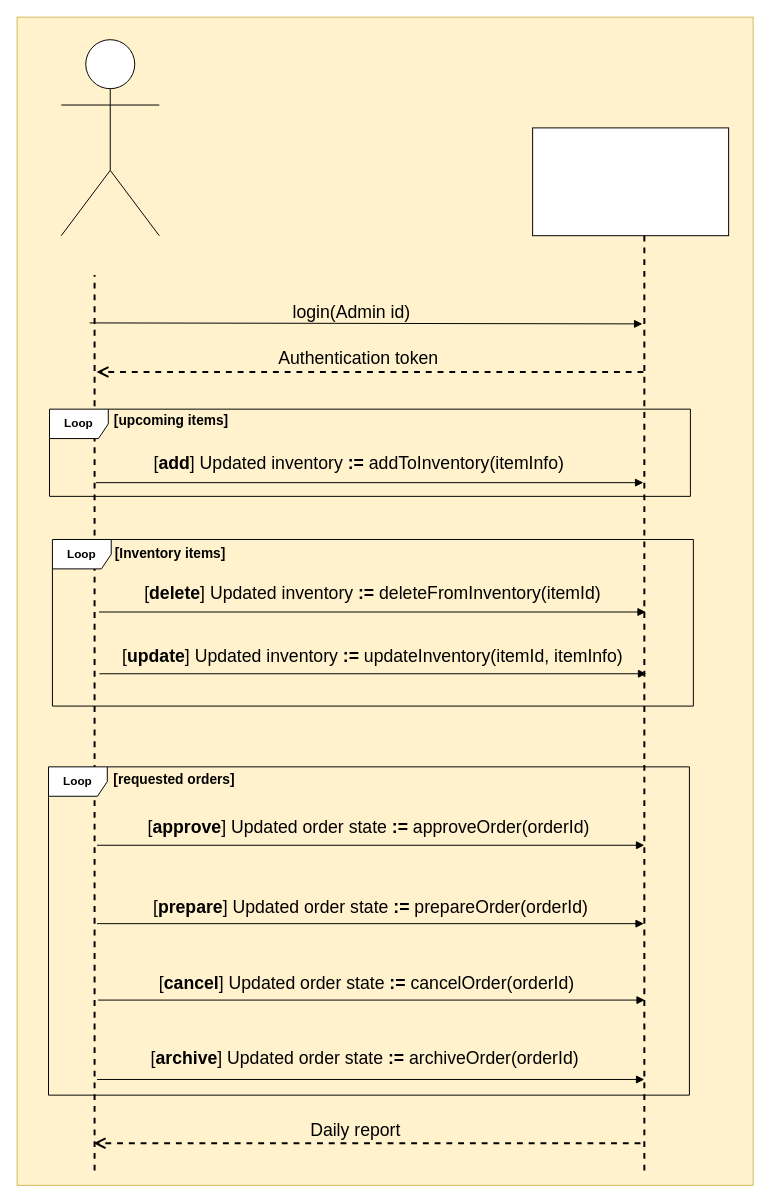
Image size: 770x1202. Some labels were removed from this diagram. The box of each missing label's shape, as (x1, y1, x2, y2) in pixels:
:System: (532, 127, 729, 236)
Admin: (60, 39, 159, 236)
